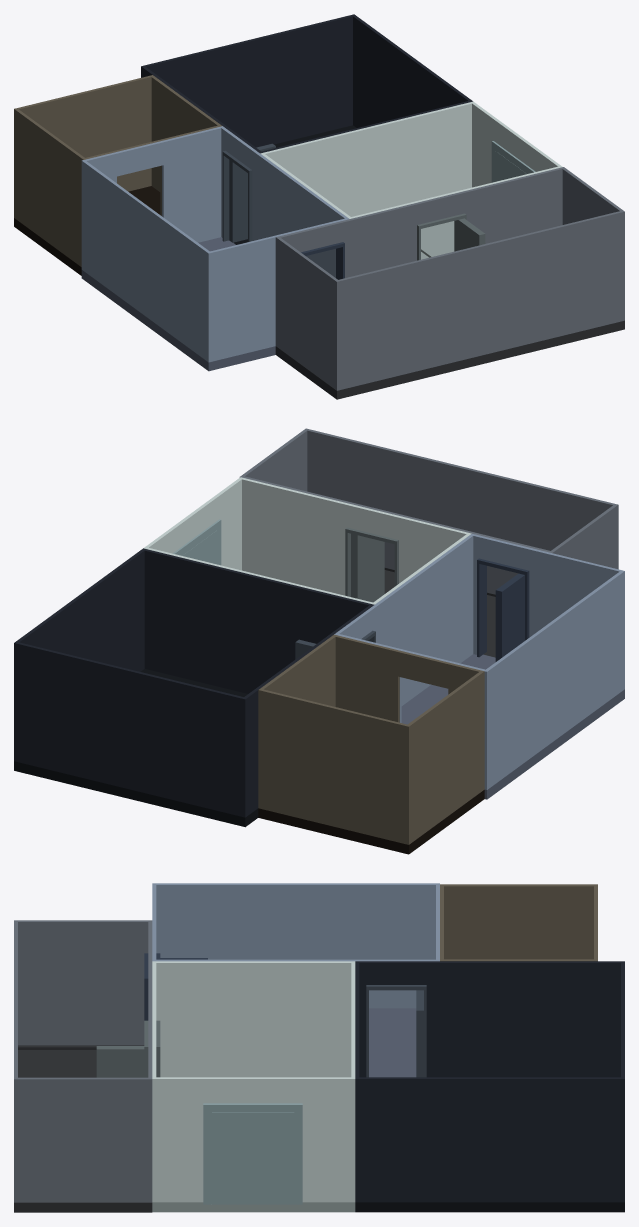
The model's file is lab_past_new.fbx.
3 renders of one model, top to bottom at view 1: azimuth 30°, elevation 25°; view 2: azimuth 150°, elevation 25°; view 3: azimuth 270°, elevation 25°, orthographic. The views are drawn at different scales.
Visible parts, largest first — view 1: engine room wall (i), portal room wall (i).003, main hall wall (i).001, tutorial room wall (i) 2, engine room wall 2, tutorial room wall (i).001, tutorial room wall (i), old archive wall (i), old archive wall (i).002, portal room wall (i), engine room wall 3.001, tutorial room wall (i) 2.001 (+10 smaller); view 2: portal room wall (i).003, portal room wall (i).002, engine room wall (i), old archive wall (i), tutorial room wall (i) 2, main hall wall (i), tutorial room wall (i) 2.001, old archive wall (i).002, portal room wall (i), old archive wall (i).001, tutorial room wall (i), ttorial room door (+14 smaller); view 3: portal room wall (i), portal room wall (i).001, main hall wall (i).002, tutorial room wall (i) 2, engine room wall 3, engine room wall 3.001, main hall wall (i).003, old archive wall (i).002, main hall door, engine room floor, tutorial room floor, portal room floor (+11 smaller).
Part boxes in pixels (x1=…): engine room wall (i): x1=335, y1=210, x2=624, y2=390; portal room wall (i).003: x1=144, y1=15, x2=352, y2=147; main hall wall (i).001: x1=260, y1=101, x2=474, y2=216; tutorial room wall (i) 2: x1=83, y1=161, x2=209, y2=360; engine room wall 2: x1=275, y1=167, x2=565, y2=346; tutorial room wall (i).001: x1=81, y1=126, x2=223, y2=270; tutorial room wall (i): x1=207, y1=218, x2=349, y2=362; old archive wall (i): x1=14, y1=75, x2=153, y2=218; old archive wall (i).002: x1=15, y1=109, x2=84, y2=266; portal room wall (i): x1=351, y1=14, x2=472, y2=127; engine room wall 3.001: x1=277, y1=238, x2=337, y2=389; tutorial room wall (i) 2.001: x1=221, y1=127, x2=347, y2=277; portal room wall (i).003: x1=17, y1=642, x2=243, y2=816; portal room wall (i).002: x1=144, y1=549, x2=370, y2=693; engine room wall (i): x1=304, y1=428, x2=618, y2=594; old archive wall (i): x1=258, y1=688, x2=410, y2=844; tutorial room wall (i) 2: x1=486, y1=571, x2=622, y2=788; main hall wall (i): x1=239, y1=477, x2=471, y2=595; tutorial room wall (i) 2.001: x1=336, y1=535, x2=473, y2=705; old archive wall (i).002: x1=408, y1=672, x2=482, y2=843; portal room wall (i): x1=14, y1=548, x2=146, y2=761; old archive wall (i).001: x1=332, y1=634, x2=484, y2=790; tutorial room wall (i): x1=470, y1=533, x2=624, y2=690; ttorial room door: x1=477, y1=558, x2=529, y2=661; portal room wall (i): x1=355, y1=1077, x2=624, y2=1202; portal room wall (i).001: x1=355, y1=961, x2=624, y2=1077; main hall wall (i).002: x1=156, y1=961, x2=351, y2=1077; tutorial room wall (i) 2: x1=156, y1=883, x2=435, y2=1008; engine room wall 3: x1=18, y1=1077, x2=148, y2=1202; engine room wall 3.001: x1=18, y1=920, x2=148, y2=1045; main hall wall (i).003: x1=156, y1=1077, x2=351, y2=1202; old archive wall (i).002: x1=444, y1=884, x2=593, y2=959; main hall door: x1=203, y1=1103, x2=302, y2=1204; engine room floor: x1=14, y1=1045, x2=152, y2=1212; tutorial room floor: x1=369, y1=1008, x2=416, y2=1077; portal room floor: x1=355, y1=1202, x2=624, y2=1212.
Bounding box in the file's own units: 8455 × 2666 × 11074.
